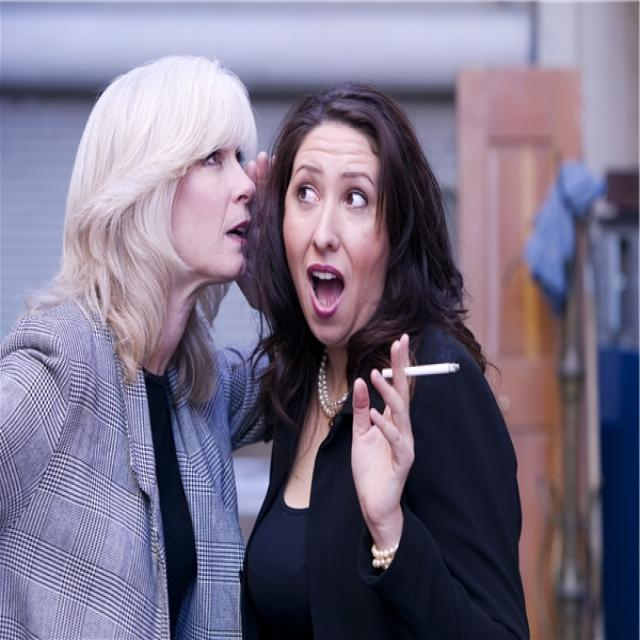smoking: (379, 361, 461, 380)
